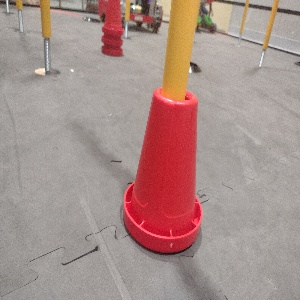Red_1: (119, 88, 202, 255)
Red_3: (101, 0, 123, 56)
